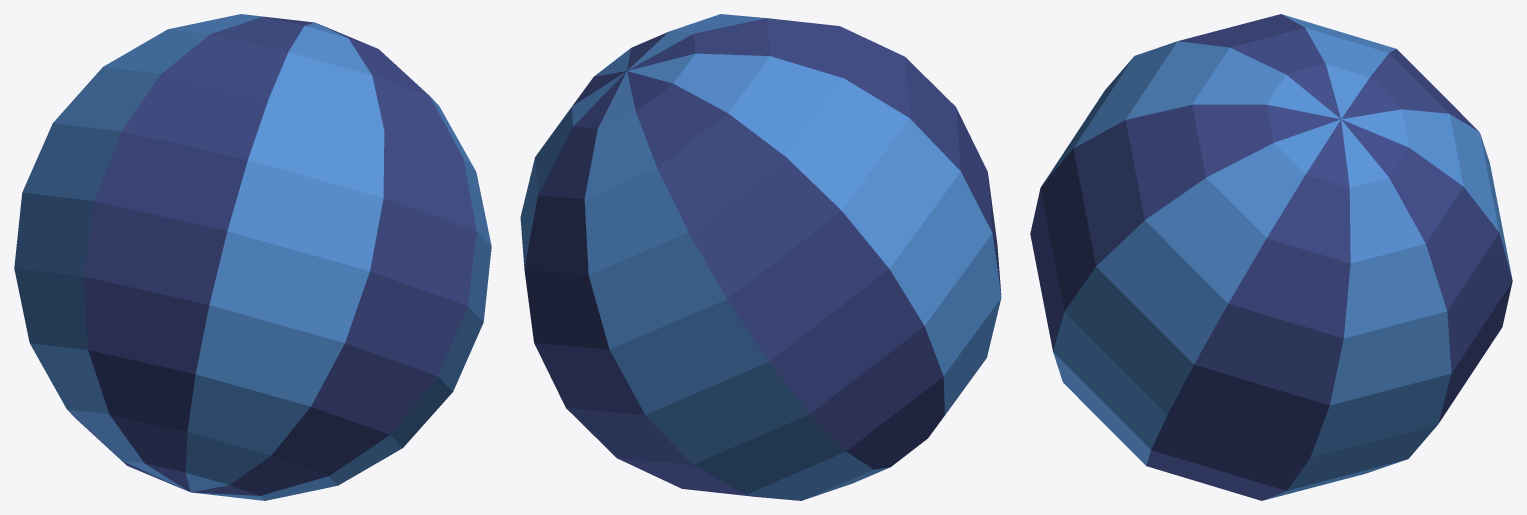
The model's file is Ball_1.fbx.
3 views of the same model, side by side, from view 1: azimuth 30°, elevation 25°; view 2: azimuth 150°, elevation 25°; view 3: azimuth 270°, elevation 25° (orthographic).
Visible parts, largest first — view 1: Ball_1; view 2: Ball_1; view 3: Ball_1.
Boxes of the visible parts, x1,y1,x2,y2 form: Ball_1: (14, 14, 491, 500); Ball_1: (520, 14, 1001, 500); Ball_1: (1030, 14, 1512, 500).
Bounding box in the file's own units: 27.02 × 28 × 27.8.
